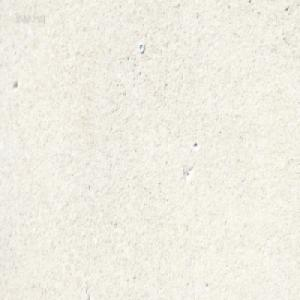Washer: (138, 42, 145, 53)
